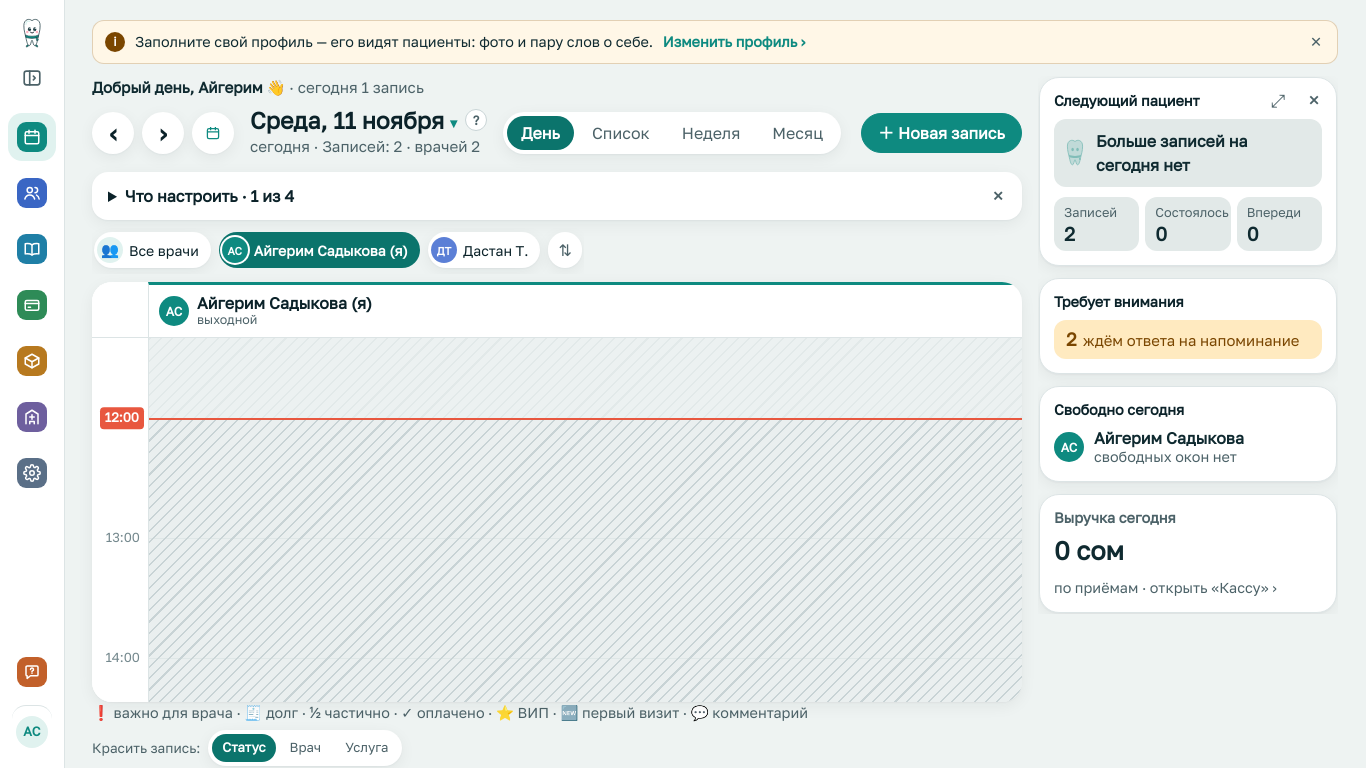
расписание: по умолчанию свой врач; «Все врачи» или другой врач — выбор запоминается
Later steps or results of the test are not shown.
(page scrolled)
expect the button "Айгуль Т." is not shown: met
Click the button "ДТ Дастан Т.": point(484, 250) [428,232,540,268]
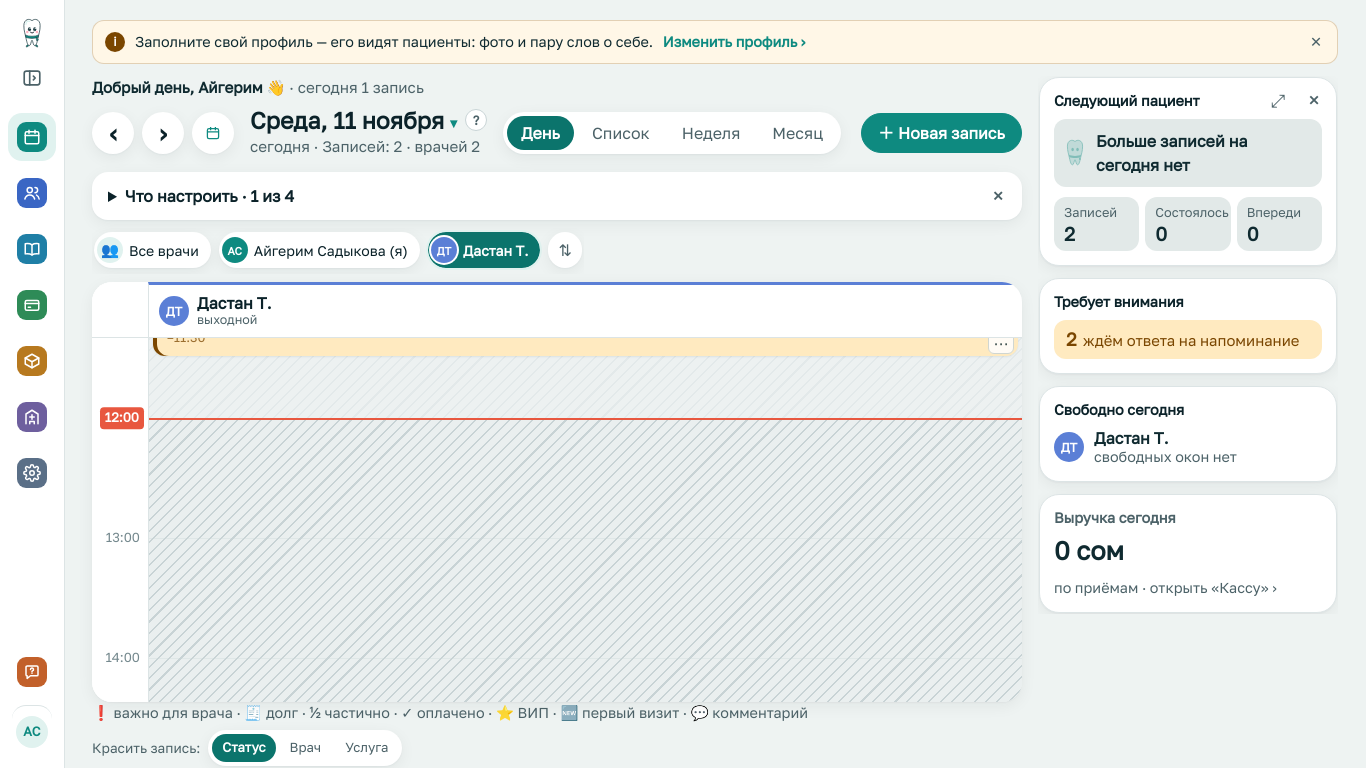
expect the button "Бакыт М." is not shown: met
expect the button "11:00 –11:30 Айгуль Т. ❓ Отметьте: явка или неявка?" is shown: met, box [153,298,1018,356]
